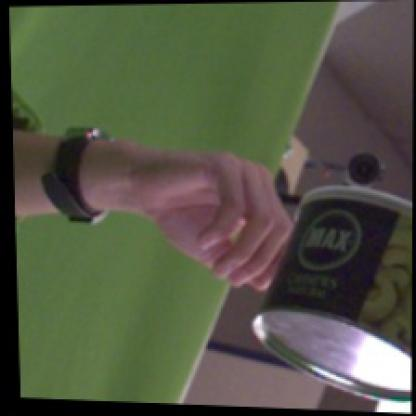Hand: (148, 149, 298, 292)
